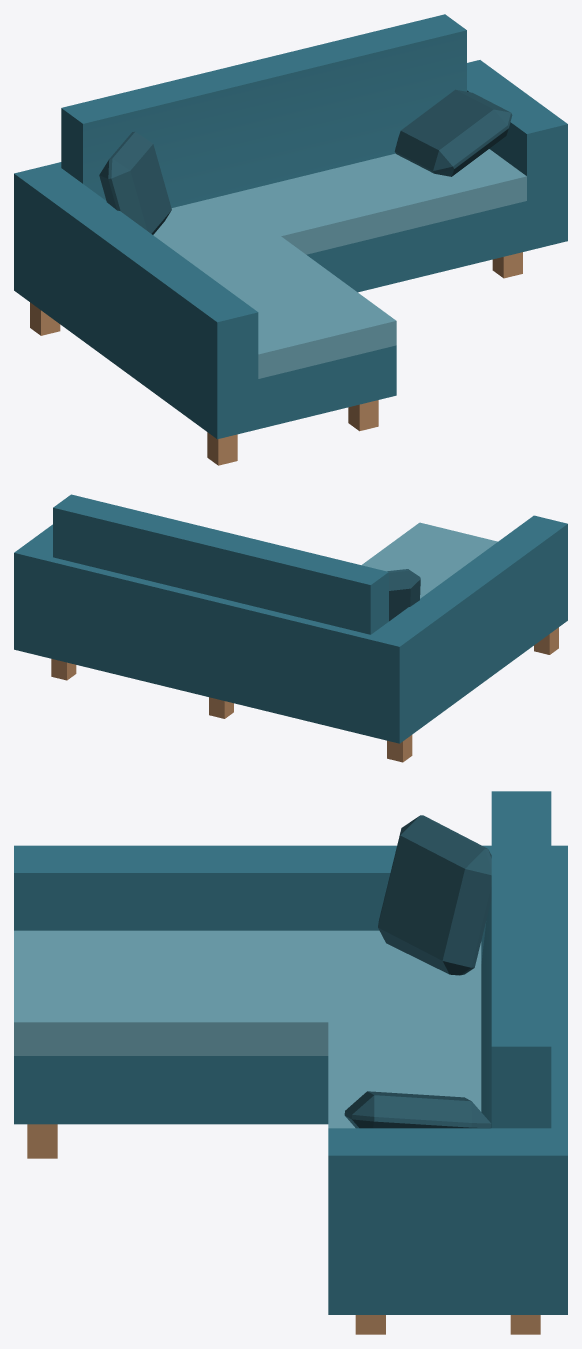
Rendered from Couch.fbx.
The picture shows the model from 3 angles, top to bottom: view 1: azimuth 30°, elevation 25°; view 2: azimuth 150°, elevation 25°; view 3: azimuth 270°, elevation 25°; orthographic projection. The views are drawn at different scales.
Parts seen in each view (by area): view 1: Couch, Pillow_Right, Pillow_Left; view 2: Couch, Pillow_Left; view 3: Couch, Pillow_Left, Pillow_Right.
Boxes of the visible parts, x1,y1,x2,y2 form: Couch: (14,14,567,465); Pillow_Right: (394,89,512,176); Pillow_Left: (99,131,171,234); Couch: (14,494,567,762); Pillow_Left: (387,569,420,621); Couch: (14,791,567,1334); Pillow_Left: (378,815,491,975); Pillow_Right: (344,1091,490,1128).
Size of the model in its own units: 4.86 by 2.08 by 3.67.
